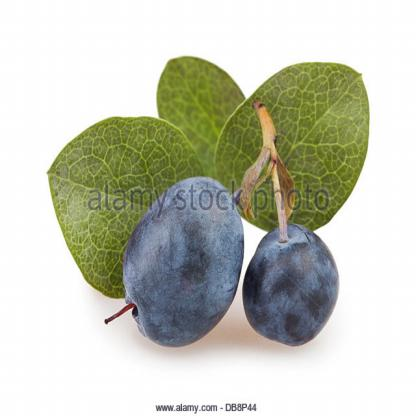blueberry leaf: (212, 50, 384, 224)
